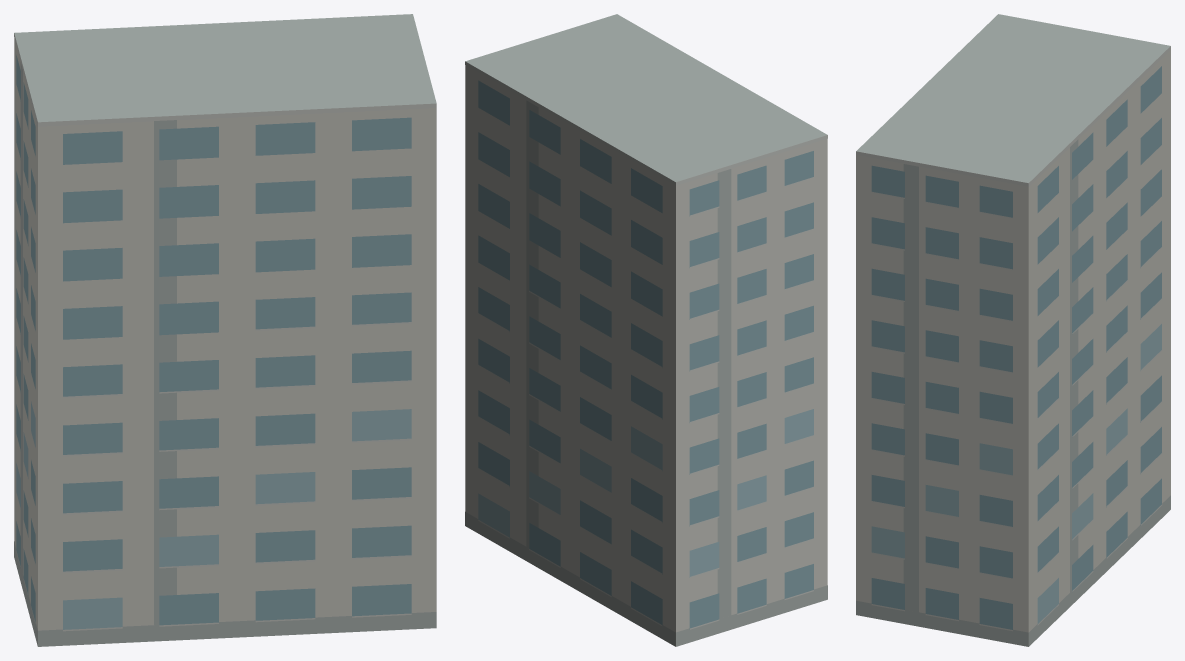
Rendered from residential-308a2100-8283-4f0c-b8b7-01347e624ab3.glb.
3 renders of one model, left to right at view 1: azimuth 30°, elevation 25°; view 2: azimuth 150°, elevation 25°; view 3: azimuth 270°, elevation 25°, orthographic. The views are drawn at different scales.
Visible parts, largest first — view 1: residential-308a2100-8283-4f0c-b8b7-01347e624ab3.tmp; view 2: residential-308a2100-8283-4f0c-b8b7-01347e624ab3.tmp; view 3: residential-308a2100-8283-4f0c-b8b7-01347e624ab3.tmp.
Part boxes in pixels (bbox=[...]): residential-308a2100-8283-4f0c-b8b7-01347e624ab3.tmp: bbox=[14, 14, 436, 646]; residential-308a2100-8283-4f0c-b8b7-01347e624ab3.tmp: bbox=[465, 14, 827, 646]; residential-308a2100-8283-4f0c-b8b7-01347e624ab3.tmp: bbox=[856, 14, 1170, 646].
Size of the model in its own units: 23.48 by 30 by 18.47.
